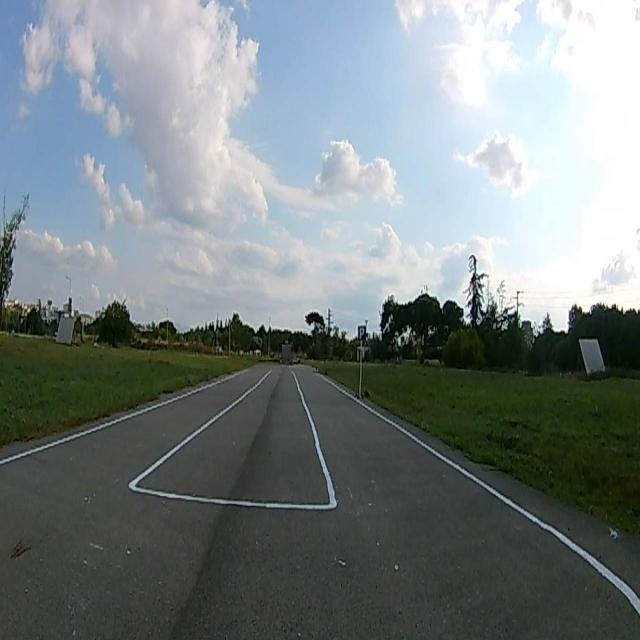park: (358, 326, 366, 342)
